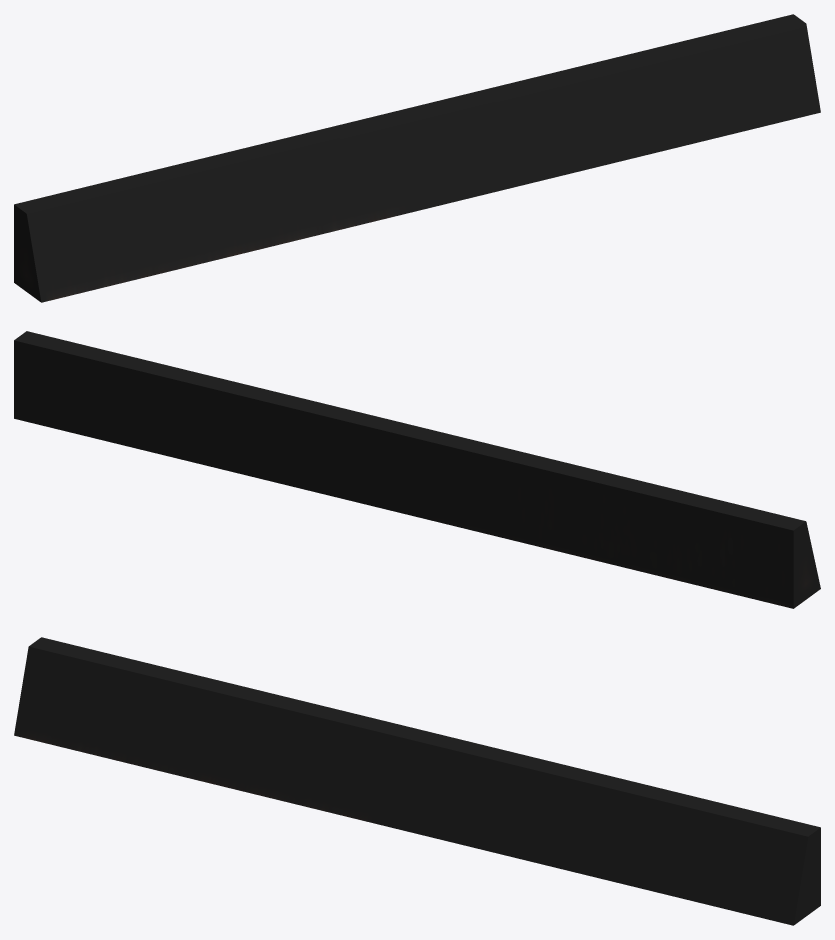
Rendered from ConveyorBelt_guards_segment.fbx.
The picture shows the model from 3 angles, top to bottom: view 1: azimuth 30°, elevation 25°; view 2: azimuth 150°, elevation 25°; view 3: azimuth 330°, elevation 25°; orthographic projection.
Parts seen in each view (by area): view 1: ConveyorBelt_guards_segment; view 2: ConveyorBelt_guards_segment; view 3: ConveyorBelt_guards_segment.
Part boxes in pixels (x1,y1,x2,y2): ConveyorBelt_guards_segment: [14, 14, 820, 302]; ConveyorBelt_guards_segment: [14, 331, 820, 608]; ConveyorBelt_guards_segment: [14, 637, 820, 925].
Size of the model in its own units: 3.55 by 58.39 by 5.61.
